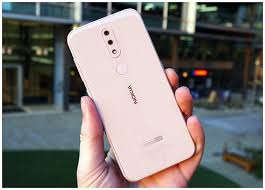nokia: (64, 7, 200, 182)
